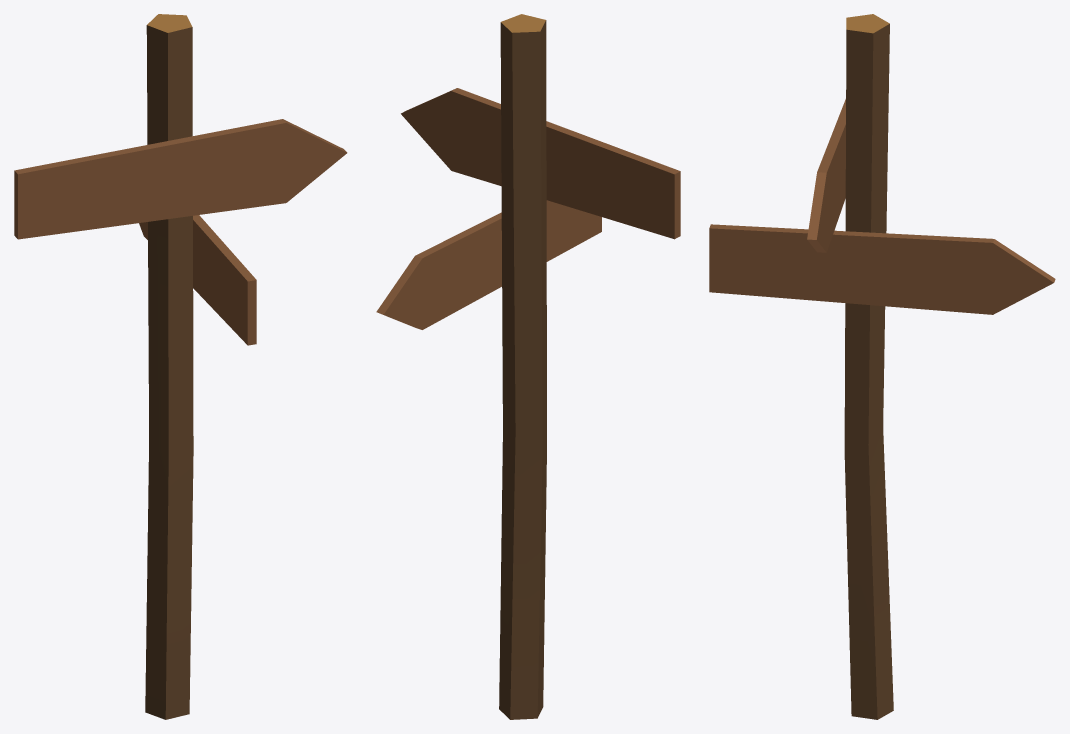
File: props_guidepost.fbx
The picture shows the model from 3 angles, left to right: view 1: azimuth 30°, elevation 25°; view 2: azimuth 150°, elevation 25°; view 3: azimuth 270°, elevation 25°; orthographic projection.
Parts seen in each view (by area): view 1: props_guidepost; view 2: props_guidepost; view 3: props_guidepost.
Boxes of the visible parts, x1,y1,x2,y2 form: props_guidepost: (14, 14, 347, 719); props_guidepost: (376, 14, 680, 719); props_guidepost: (709, 14, 1055, 719).
Size of the model in its own units: 92.26 by 200 by 91.36.
